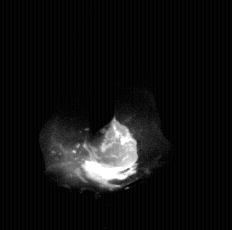arame: (91, 0, 115, 143)
poca: (39, 0, 166, 230)
